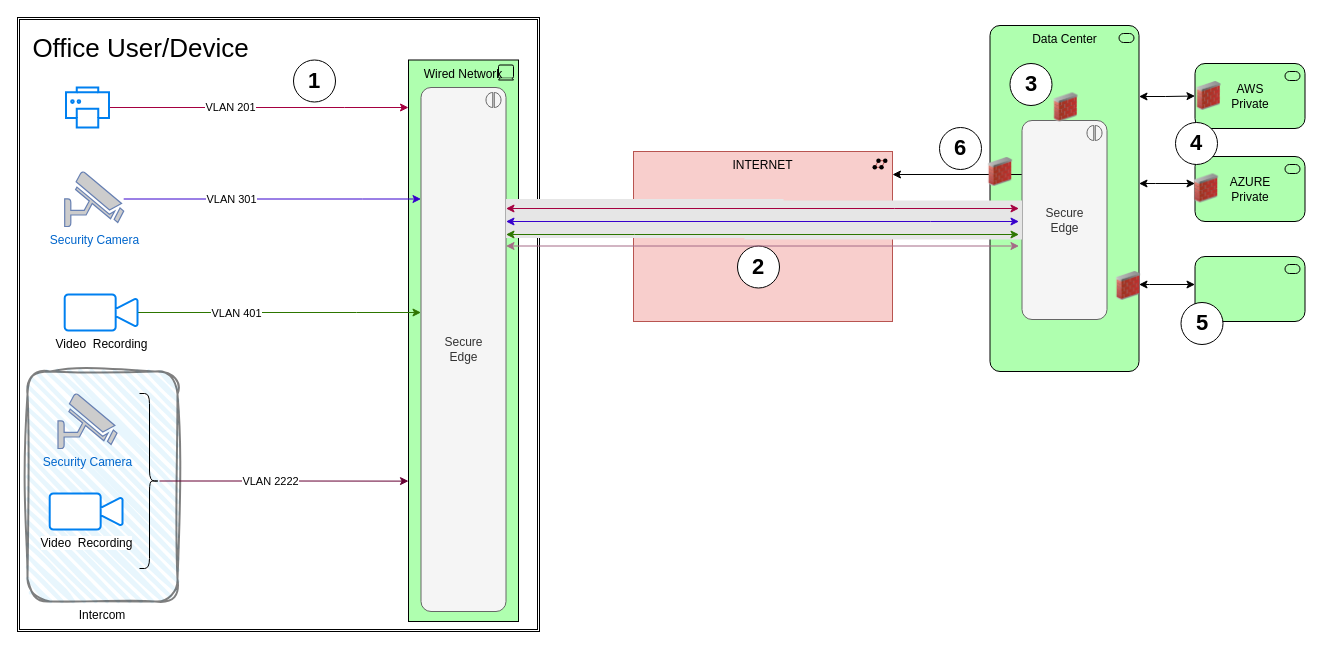
This 1323x649 diagram has some shape labels left out. Each missing label, with the centre of its shape:
"Printer" belongs at point (87, 107).
"Third Parties" belongs at point (1249, 289).
